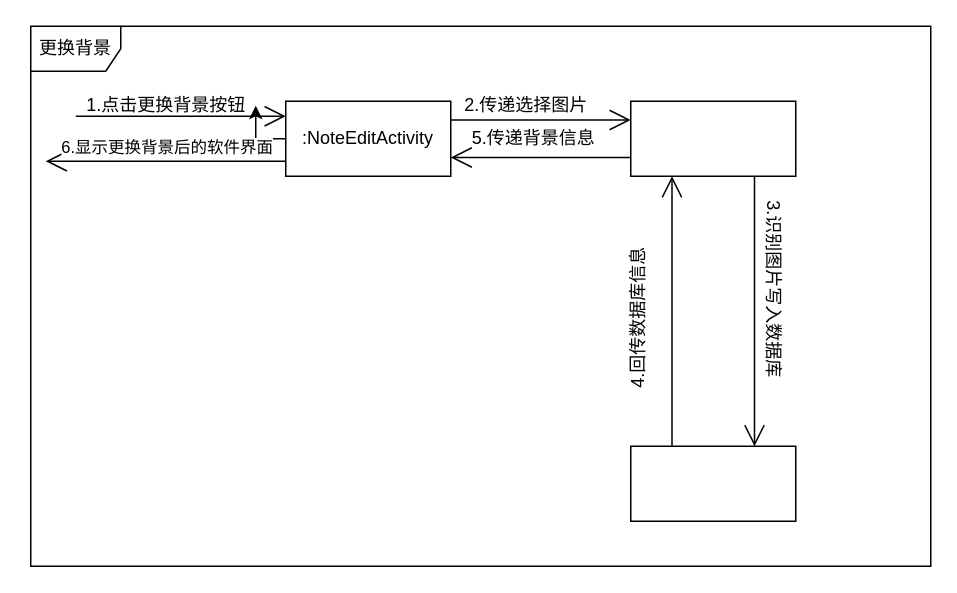
The diagram is 957 pixels wide and 593 high, and some of its shapes have lost their labels. Each missing label, with the box of its shape:
:Notes: (629, 445, 796, 521)
:WorkingNote: (629, 100, 796, 176)
